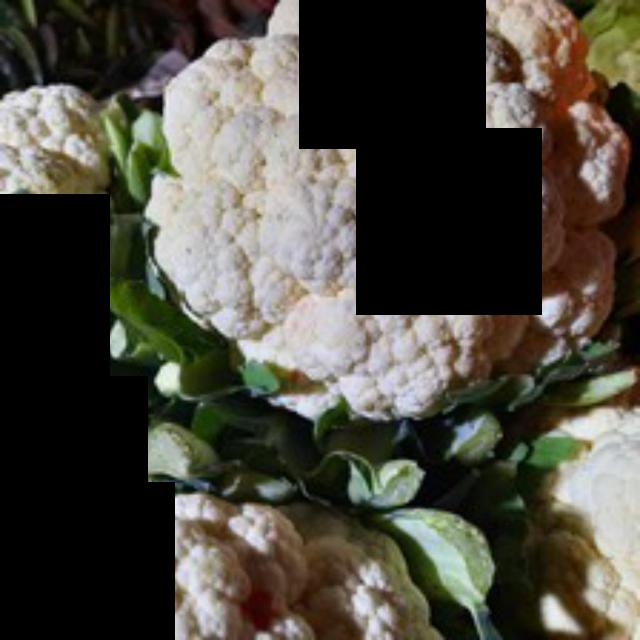cauliflower: (148, 0, 637, 446)
